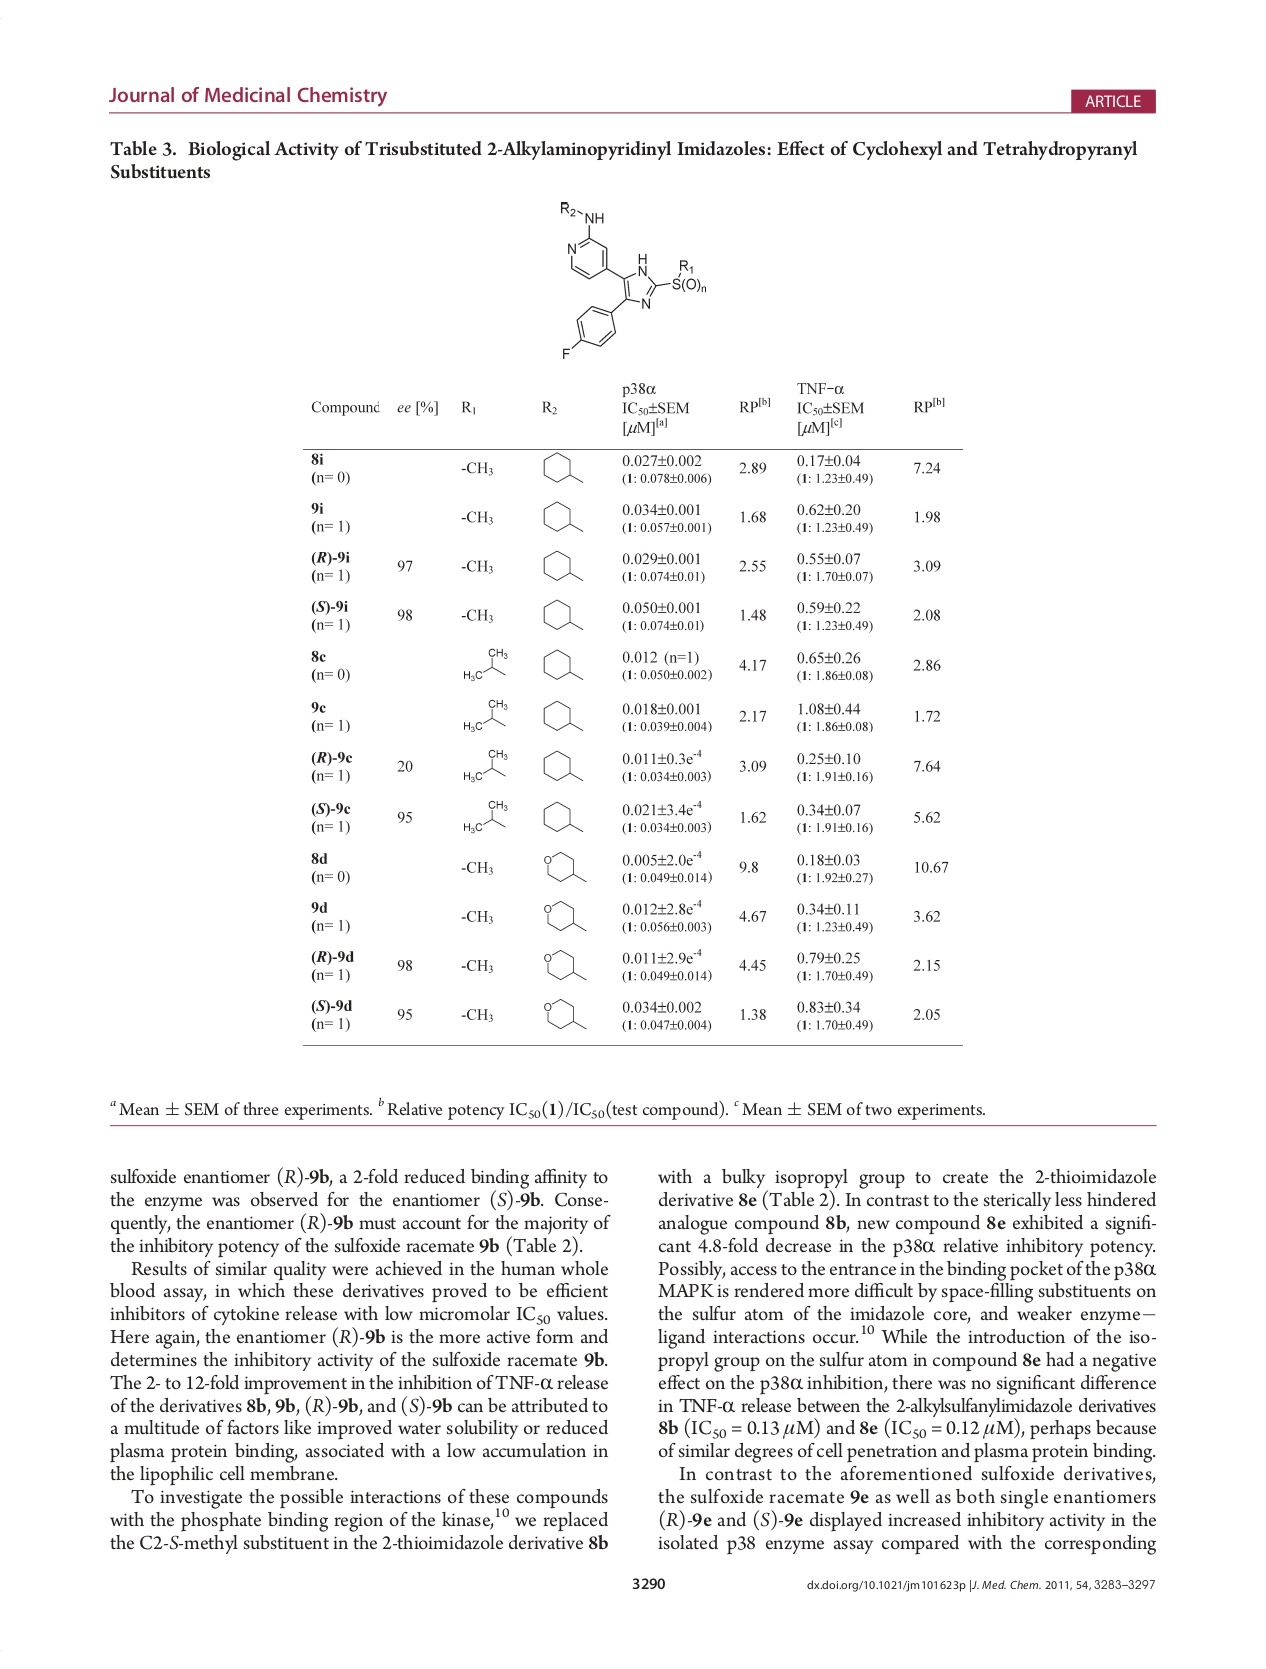exist_molecular: (553, 198, 709, 362), (460, 638, 511, 681), (461, 794, 511, 836), (457, 694, 508, 734), (539, 899, 592, 936), (543, 848, 592, 887), (541, 944, 590, 983), (536, 993, 586, 1031), (537, 644, 582, 685), (539, 499, 586, 537), (461, 745, 511, 782), (540, 694, 585, 734), (539, 594, 585, 633), (540, 797, 582, 835), (541, 548, 585, 585), (541, 747, 582, 785), (541, 451, 582, 487)
